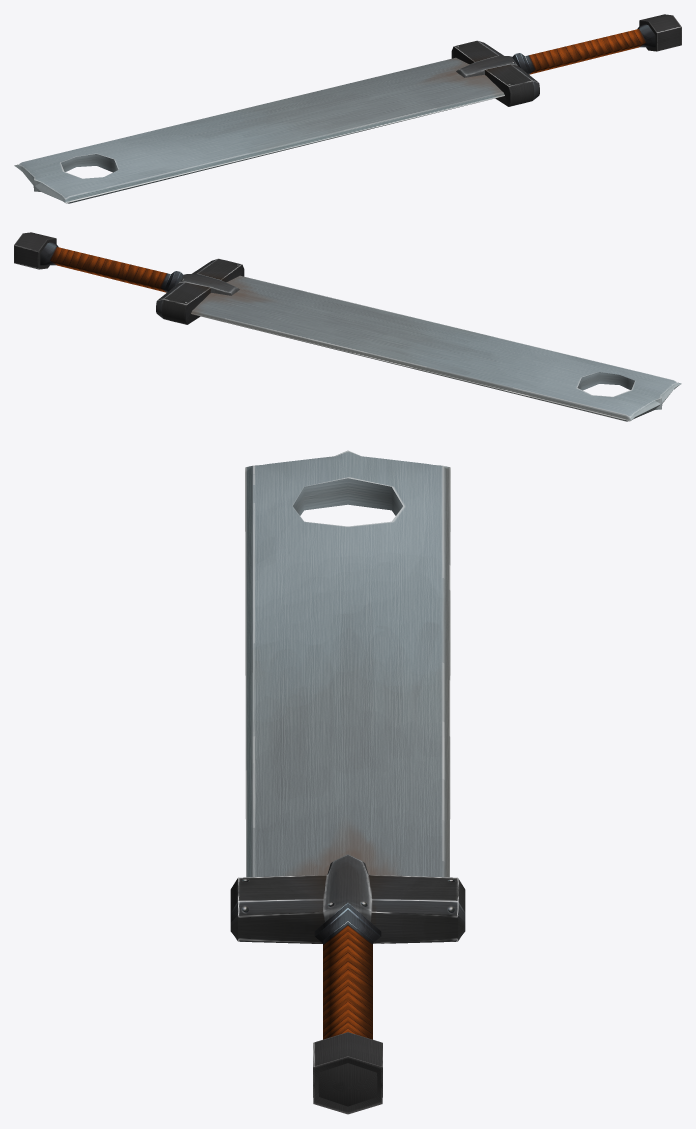
Rendered from Obelisk Sword.FBX.
3 renders of one model, top to bottom at view 1: azimuth 30°, elevation 25°; view 2: azimuth 150°, elevation 25°; view 3: azimuth 270°, elevation 25°, orthographic. The views are drawn at different scales.
Parts seen in each view (by area): view 1: Obelisk Sword; view 2: Obelisk Sword; view 3: Obelisk Sword.
Boxes of the visible parts, <box> form: Obelisk Sword: <box>14,14,681,203</box>; Obelisk Sword: <box>14,232,681,421</box>; Obelisk Sword: <box>230,450,465,1114</box>.
Bounding box in the file's own units: 153 × 6.66 × 24.27.
